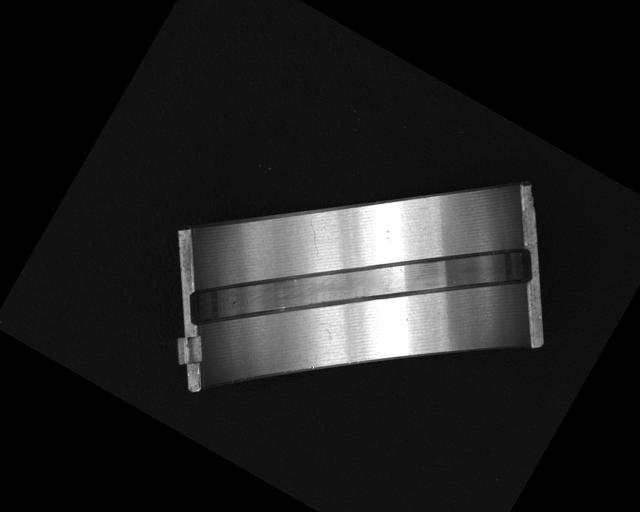gap: (180, 115, 543, 457)
nick: (298, 221, 331, 257)
